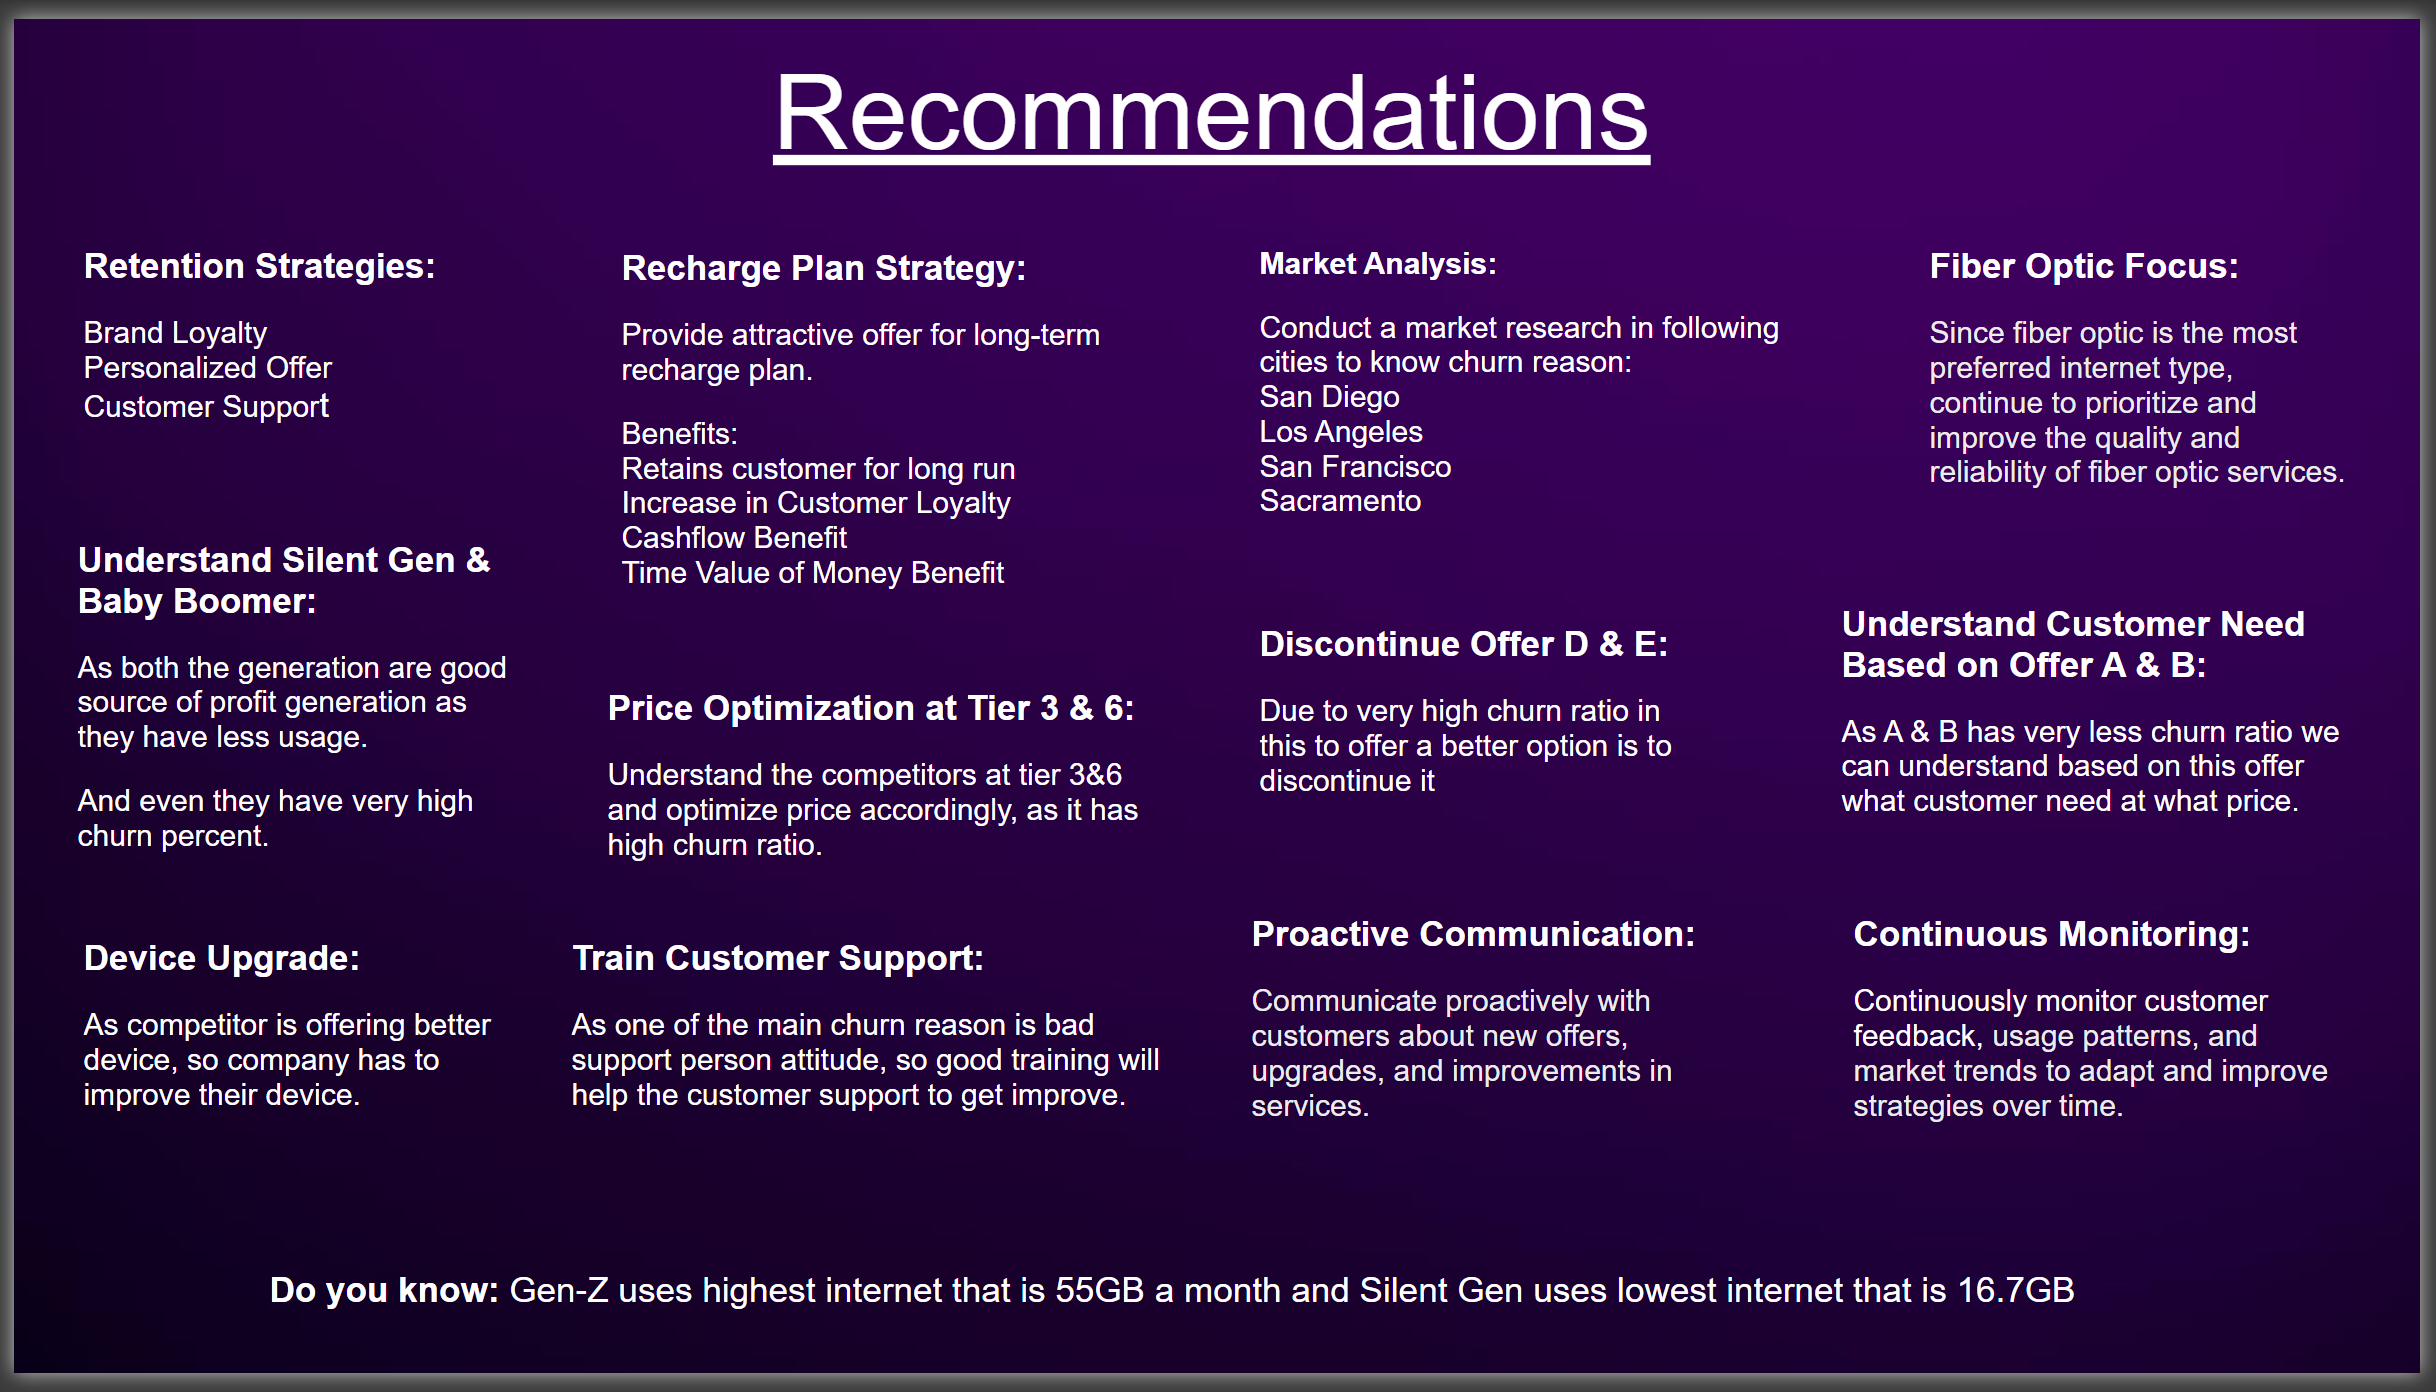

The page's visual inventory and layout, read from the dashboard file:
{"tool":"powerbi","page":{"name":"Recommendations","canvas":[1280,720],"ordinal":3},"visuals":[{"type":"textbox","box":[32.4,116.4,218.7,128],"z":0},{"type":"textbox","box":[317.6,116.7,288.4,200.9],"z":1000},{"type":"textbox","box":[657.8,116.4,309.5,176.6],"z":2000},{"type":"textbox","box":[1014.3,116.4,231.7,162],"z":3000},{"type":"textbox","box":[29.2,272.2,241.4,217.1],"z":4000},{"type":"textbox","box":[311.1,351.2,301.4,126.4],"z":5000},{"type":"textbox","box":[657.8,317.2,239.8,116.7],"z":6000},{"type":"textbox","box":[967.3,305.9,290,162],"z":7000},{"type":"textbox","box":[32.4,484.1,241.4,129.6],"z":8000},{"type":"textbox","box":[291.6,484.1,325.7,150.7],"z":9000},{"type":"textbox","box":[653,471.5,265.7,150.7],"z":10000},{"type":"textbox","box":[973.8,471.1,277.1,150.7],"z":11000},{"type":"textbox","box":[29.2,9.7,1216.8,98.8],"z":12000},{"type":"textbox","box":[131.2,661.1,1012.7,42.1],"z":13000}]}

Visuals, with their boxes in screenshot pixels (x1, y1, x2, y2), scaled from the page's 1280x720 canvas onto the 2436x1392 screenshot:
textbox: [x1=62, y1=225, x2=478, y2=473]
textbox: [x1=604, y1=226, x2=1153, y2=614]
textbox: [x1=1252, y1=225, x2=1841, y2=566]
textbox: [x1=1930, y1=225, x2=2371, y2=538]
textbox: [x1=56, y1=526, x2=515, y2=946]
textbox: [x1=592, y1=679, x2=1166, y2=923]
textbox: [x1=1252, y1=613, x2=1708, y2=839]
textbox: [x1=1841, y1=591, x2=2393, y2=905]
textbox: [x1=62, y1=936, x2=521, y2=1186]
textbox: [x1=555, y1=936, x2=1175, y2=1227]
textbox: [x1=1243, y1=912, x2=1748, y2=1203]
textbox: [x1=1853, y1=911, x2=2381, y2=1202]
textbox: [x1=56, y1=19, x2=2371, y2=210]
textbox: [x1=250, y1=1278, x2=2177, y2=1360]
